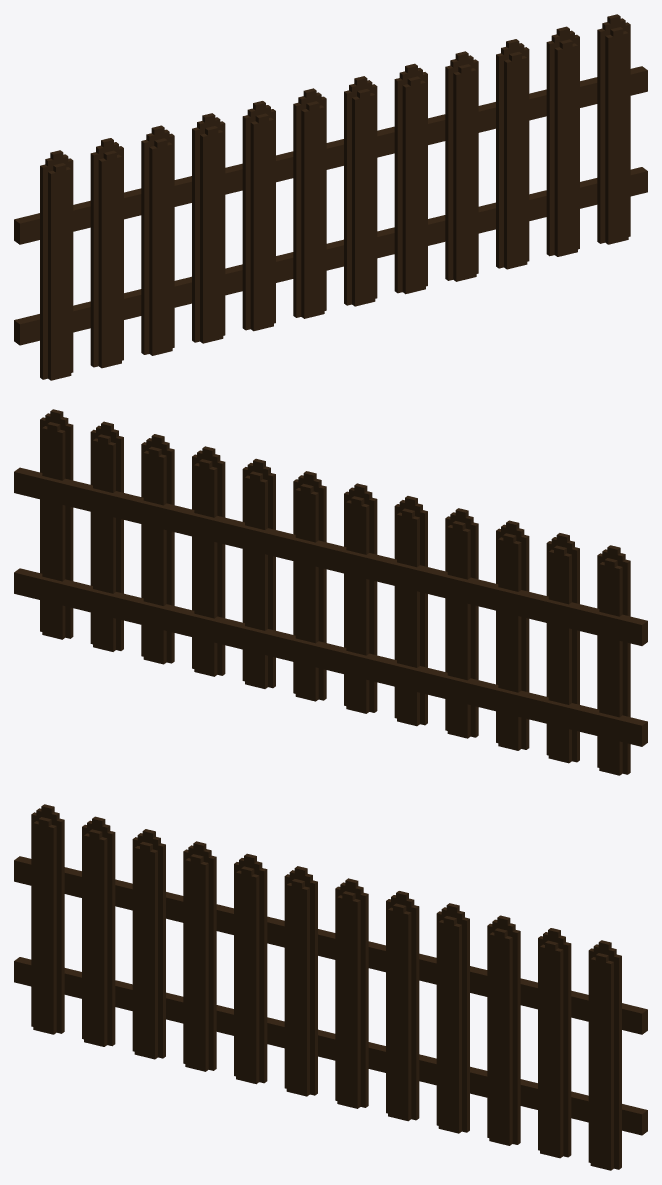
The model's file is fence.fbx.
3 renders of one model, top to bottom at view 1: azimuth 30°, elevation 25°; view 2: azimuth 150°, elevation 25°; view 3: azimuth 330°, elevation 25°, orthographic.
Parts seen in each view (by area): view 1: fence; view 2: fence; view 3: fence.
Boxes of the visible parts, x1,y1,x2,y2 form: fence: [14, 14, 647, 380]; fence: [14, 409, 647, 775]; fence: [14, 804, 647, 1170].
Size of the model in its own units: 124 by 42 by 4.
1 material, 1 textured.
